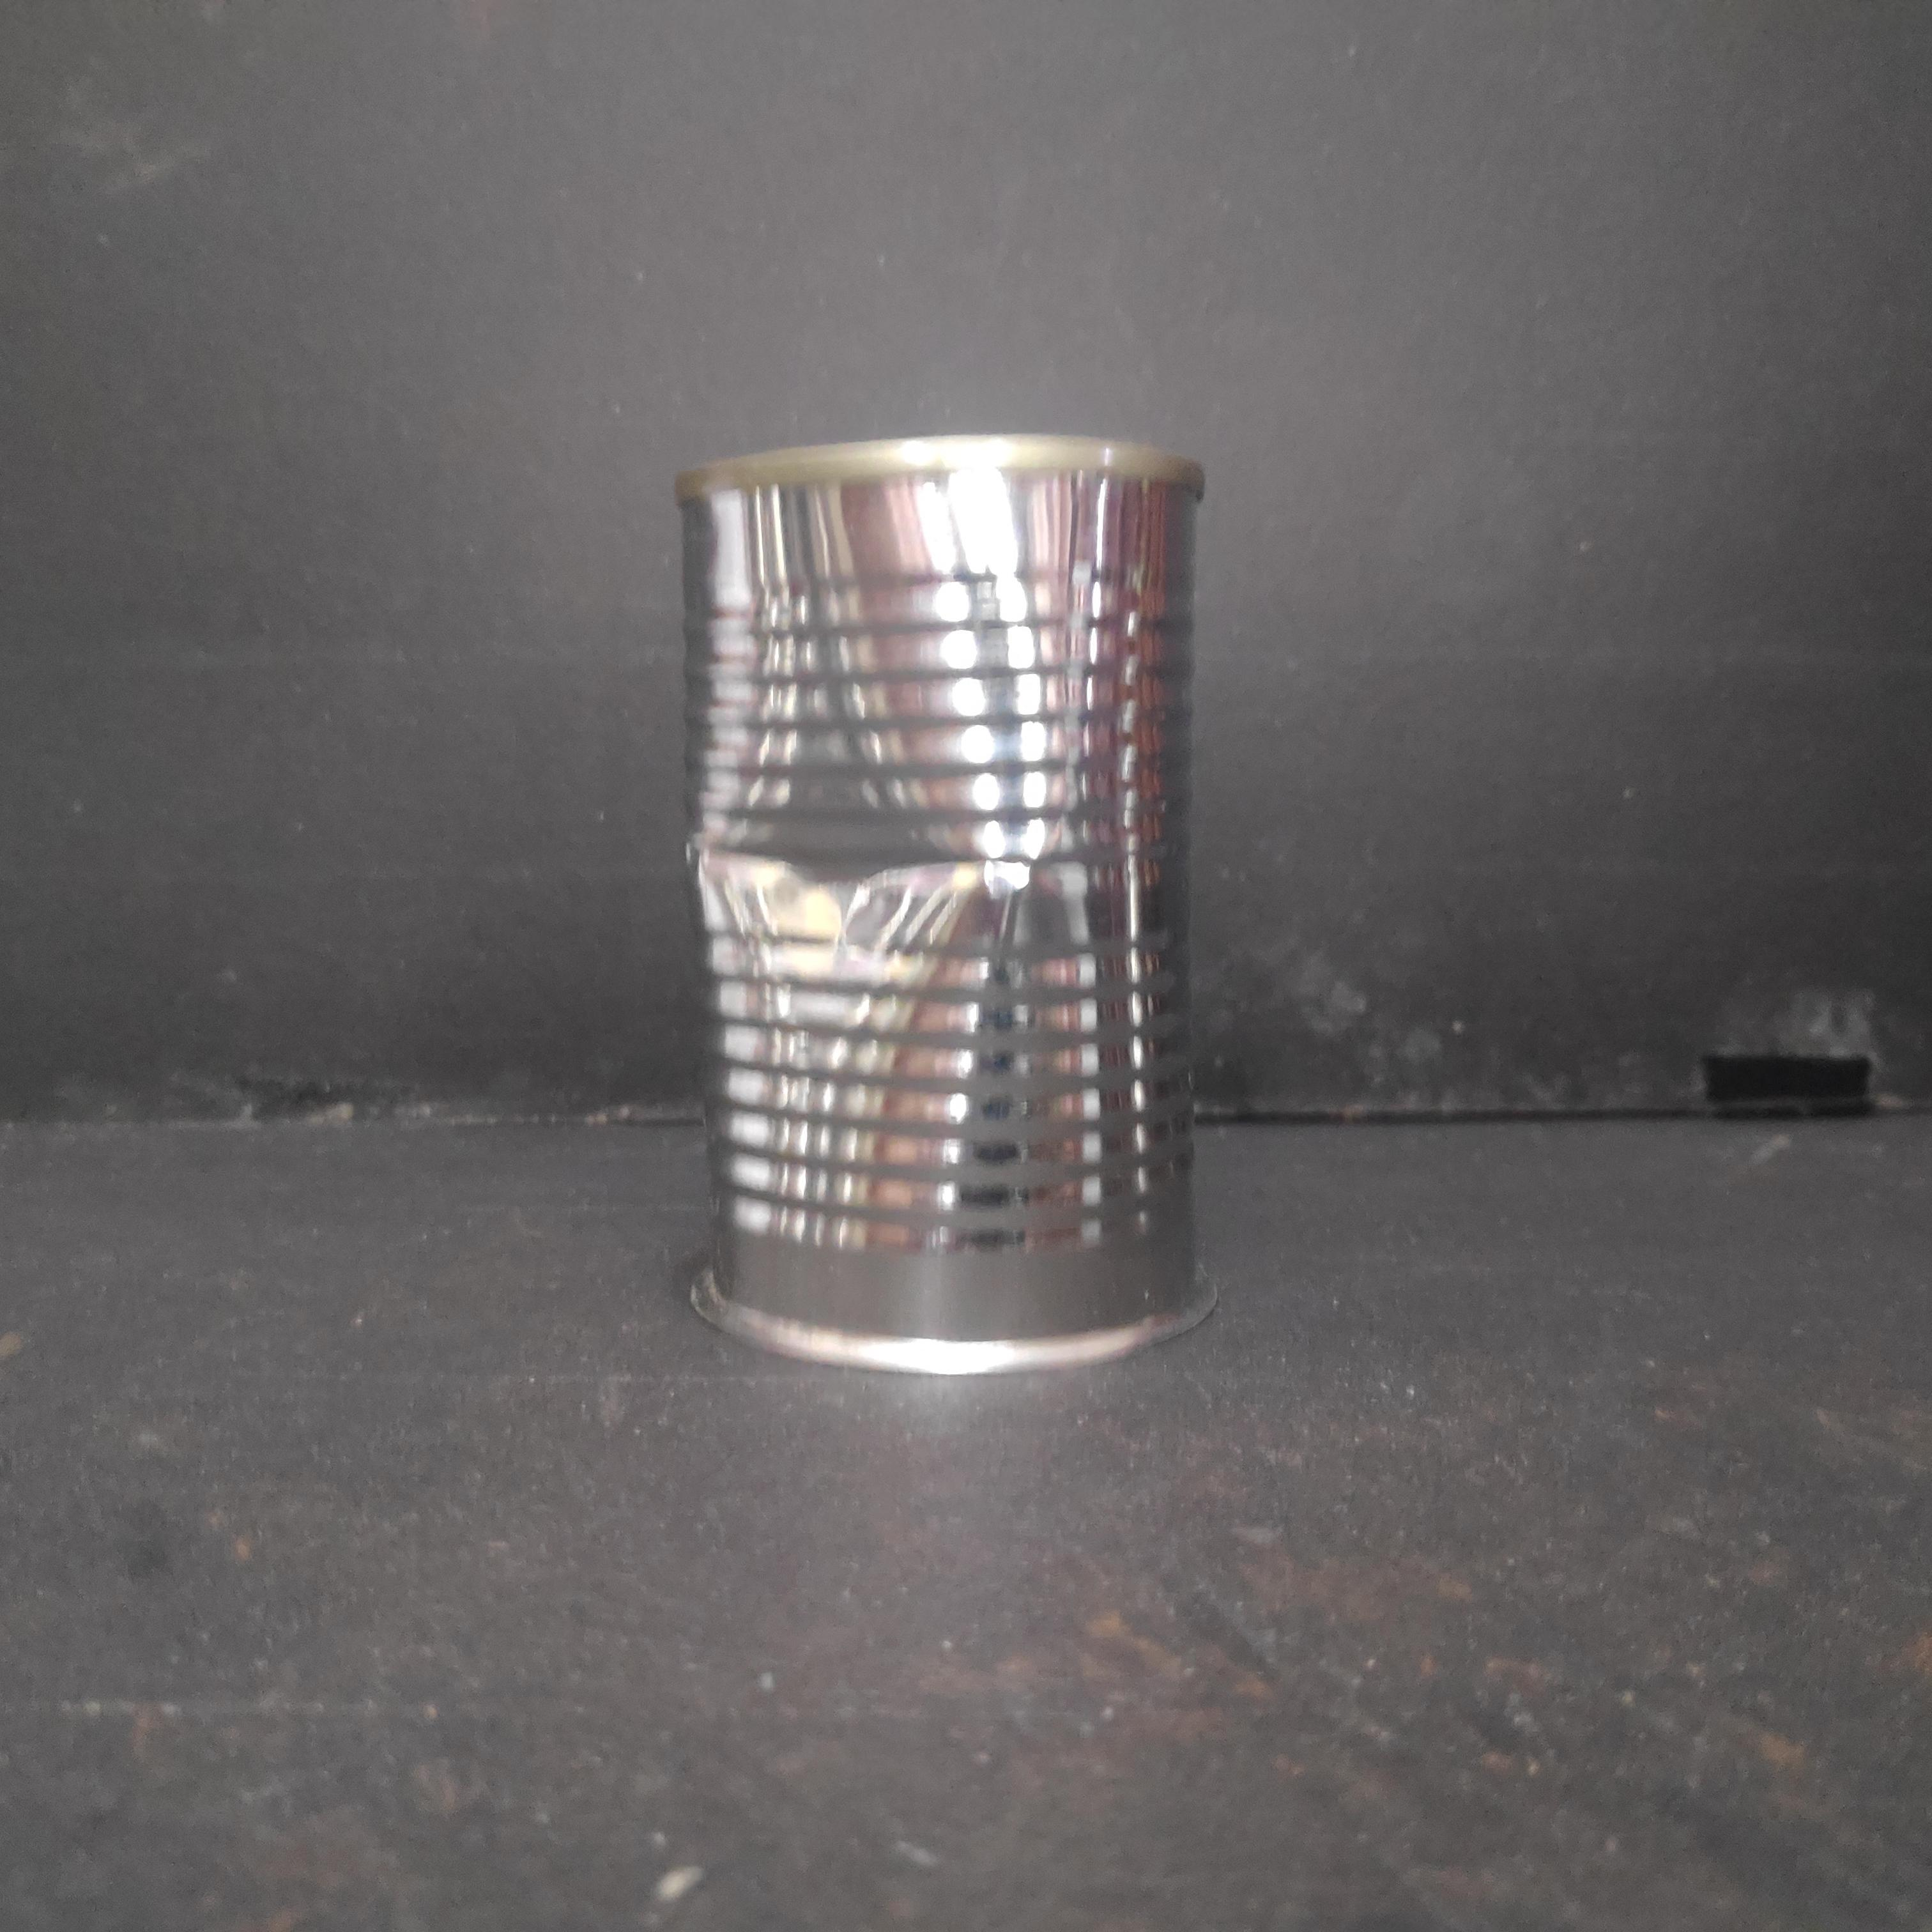Minor Defect: (665, 426, 1219, 1380)
